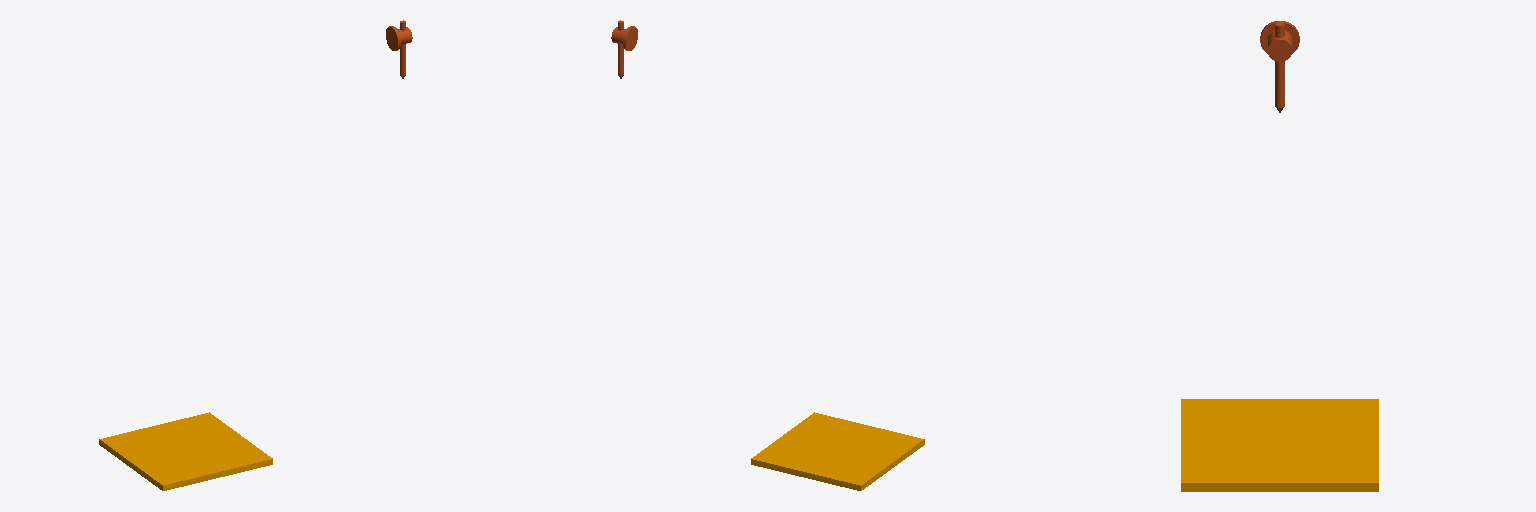
URDF robot description (irb120_pen):
<?xml version="1.0" ?>
<!-- =================================================================================== -->
<!-- |    This document was autogenerated by xacro from irb120_pen.xacro               | -->
<!-- |    EDITING THIS FILE BY HAND IS NOT RECOMMENDED                                 | -->
<!-- =================================================================================== -->
<robot name="irb120_pen" xmlns:xacro="http://ros.org/wiki/xacro">
  <!-- Dummy base link -->
  <link name="base_link">
    <visual>
      <geometry>
        <box size="0.2 0.2 0.01"/>
      </geometry>
    </visual>
    <collision>
      <geometry>
        <box size="0.2 0.2 0.01"/>
      </geometry>
    </collision>
  </link>
  <!-- Include IRB120 model -->
  <!-- Conversion were obtained from http://www.e-paint.co.uk/Lab_values.asp
       unless otherwise stated. -->
  <!-- Actual colors -->
  <!-- NCS 2070-Y60R orange, standard robot color 1974 - May 2014 -->
  <!-- RAL 7035 light grey (abb graphite white), standard robot color May 2014 - current -->
  <!-- RAL 9003 signal white (abb white), cleanroom robot color -->
  <!-- RAL 7032 pebble gray, controller -->
  <!-- RAL 7012 basalt gray (abb dark gray) , robot primer -->
  <!-- RAL 7021 black gray (abb black) , robot with dark link color -->
  <!-- Other robot colours availble, but not limited too. -->
  <!-- RAL 3001 signal red -->
  <!-- RAL 3002 carmine red -->
  <!-- RAL 5002 ultramarine blue -->
  <!-- RAL 5015 sky blue -->
  <!-- RAL 6002 leaf green -->
  <!-- RAL 9002 gray white -->
  <!-- RAL 9010 pure white -->
  <!-- approximations -->
  <!-- yellow, collision model -->
  <!-- link list -->
  <link name="arm_base_link">
    <inertial>
      <mass value="6.215"/>
      <origin rpy="0 0 0" xyz="-0.04204 8.01E-05 0.07964"/>
      <inertia ixx="0.0247272" ixy="-8.0784E-05" ixz="0.00130902" iyy="0.0491285" iyz="-8.0419E-06" izz="0.0472376"/>
    </inertial>
    <visual>
      <origin rpy="0 0 0" xyz="0 0 0"/>
      <geometry>
        <mesh filename="package://abb_irb120_support/meshes/irb120/visual/base_link.stl"/>
      </geometry>
      <material name="">
        <color rgba="0.7372549 0.3490196 0.1607843 1"/>
      </material>
    </visual>
    <collision>
      <origin rpy="0 0 0" xyz="0 0 0"/>
      <geometry>
        <mesh filename="package://abb_irb120_support/meshes/irb120/collision/base_link.stl"/>
      </geometry>
      <material name="">
        <color rgba="1 1 0 1"/>
      </material>
    </collision>
  </link>
  <link name="arm_link_1">
    <inertial>
      <mass value="3.067"/>
      <origin rpy="0 0 0" xyz="9.77E-05 -0.00012 0.23841"/>
      <inertia ixx="0.0142175" ixy="-1.28579E-05" ixz="-2.31364E-05" iyy="0.0144041" iyz="1.93404E-05" izz="0.0104533"/>
    </inertial>
    <visual>
      <origin rpy="0 0 0" xyz="0 0 0"/>
      <geometry>
        <mesh filename="package://abb_irb120_support/meshes/irb120/visual/link_1.stl"/>
      </geometry>
      <material name="">
        <color rgba="0.7372549 0.3490196 0.1607843 1"/>
      </material>
    </visual>
    <collision>
      <origin rpy="0 0 0" xyz="0 0 0"/>
      <geometry>
        <mesh filename="package://abb_irb120_support/meshes/irb120/collision/link_1.stl"/>
      </geometry>
      <material name="">
        <color rgba="1 1 0 1"/>
      </material>
    </collision>
  </link>
  <link name="arm_link_2">
    <inertial>
      <mass value="3.909"/>
      <origin rpy="0 0 0" xyz="0.00078 -0.00212 0.10124"/>
      <inertia ixx="0.0603111" ixy="9.83431E-06" ixz="5.72407E-05" iyy="0.041569" iyz="-0.00050497" izz="0.0259548"/>
    </inertial>
    <visual>
      <origin rpy="0 0 0" xyz="0 0 0"/>
      <geometry>
        <mesh filename="package://abb_irb120_support/meshes/irb120/visual/link_2.stl"/>
      </geometry>
      <material name="">
        <color rgba="0.7372549 0.3490196 0.1607843 1"/>
      </material>
    </visual>
    <collision>
      <origin rpy="0 0 0" xyz="0 0 0"/>
      <geometry>
        <mesh filename="package://abb_irb120_support/meshes/irb120/collision/link_2.stl"/>
      </geometry>
      <material name="">
        <color rgba="1 1 0 1"/>
      </material>
    </collision>
  </link>
  <link name="arm_link_3">
    <inertial>
      <mass value="2.944"/>
      <origin rpy="0 0 0" xyz="0.02281 0.00106 0.05791"/>
      <inertia ixx="0.00835606" ixy="-8.01545E-05" ixz="0.00142884" iyy="0.016713" iyz="-0.000182227" izz="0.0126984"/>
    </inertial>
    <visual>
      <origin rpy="0 0 0" xyz="0 0 0"/>
      <geometry>
        <mesh filename="package://abb_irb120_support/meshes/irb120/visual/link_3.stl"/>
      </geometry>
      <material name="">
        <color rgba="0.7372549 0.3490196 0.1607843 1"/>
      </material>
    </visual>
    <collision>
      <origin rpy="0 0 0" xyz="0 0 0"/>
      <geometry>
        <mesh filename="package://abb_irb120_support/meshes/irb120/collision/link_3.stl"/>
      </geometry>
      <material name="">
        <color rgba="1 1 0 1"/>
      </material>
    </collision>
  </link>
  <link name="arm_link_4">
    <inertial>
      <mass value="1.328"/>
      <origin rpy="0 0 0" xyz="0.2247 0.00015 0.00041"/>
      <inertia ixx="0.00284661" ixy="-2.12765E-05" ixz="-1.6435E-05" iyy="0.00401346" iyz="1.31336E-05" izz="0.0052535"/>
    </inertial>
    <visual>
      <origin rpy="0 0 0" xyz="0 0 0"/>
      <geometry>
        <mesh filename="package://abb_irb120_support/meshes/irb120/visual/link_4.stl"/>
      </geometry>
      <material name="">
        <color rgba="0.7372549 0.3490196 0.1607843 1"/>
      </material>
    </visual>
    <collision>
      <origin rpy="0 0 0" xyz="0 0 0"/>
      <geometry>
        <mesh filename="package://abb_irb120_support/meshes/irb120/collision/link_4.stl"/>
      </geometry>
      <material name="">
        <color rgba="1 1 0 1"/>
      </material>
    </collision>
  </link>
  <link name="arm_link_5">
    <inertial>
      <mass value="0.546"/>
      <origin rpy="0 0 0" xyz="-0.00109 3.68E-05 6.22E-05"/>
      <inertia ixx="0.000404891" ixy="1.61943E-06" ixz="8.46805E-07" iyy="0.000892825" iyz="-1.51792E-08" izz="0.000815468"/>
    </inertial>
    <visual>
      <origin rpy="0 0 0" xyz="0 0 0"/>
      <geometry>
        <mesh filename="package://abb_irb120_support/meshes/irb120/visual/link_5.stl"/>
      </geometry>
      <material name="">
        <color rgba="0.7372549 0.3490196 0.1607843 1"/>
      </material>
    </visual>
    <collision>
      <origin rpy="0 0 0" xyz="0 0 0"/>
      <geometry>
        <mesh filename="package://abb_irb120_support/meshes/irb120/collision/link_5.stl"/>
      </geometry>
      <material name="">
        <color rgba="1 1 0 1"/>
      </material>
    </collision>
  </link>
  <link name="arm_link_6">
    <inertial>
      <mass value="0.137"/>
      <origin rpy="0 0 0" xyz="-0.00706 -0.00017 -1.32E-06"/>
      <inertia ixx="0.001" ixy="0" ixz="0" iyy="0.001" iyz="0" izz="0.001"/>
    </inertial>
    <visual>
      <origin rpy="0 0 0" xyz="0 0 0"/>
      <geometry>
        <mesh filename="package://abb_irb120_support/meshes/irb120/visual/link_6.stl"/>
      </geometry>
      <material name="">
        <color rgba="0.1882353 0.1960784 0.2039216 1"/>
      </material>
    </visual>
    <collision>
      <origin rpy="0 0 0" xyz="0 0 0"/>
      <geometry>
        <mesh filename="package://abb_irb120_support/meshes/irb120/collision/link_6.stl"/>
      </geometry>
      <material name="">
        <color rgba="1 1 0 1"/>
      </material>
    </collision>
  </link>
  <link name="arm_tool0"/>
  <!-- end of link list -->
  <!-- joint list -->
  <joint name="arm_joint_1" type="revolute">
    <origin rpy="0 0 0" xyz="0 0 0"/>
    <parent link="arm_base_link"/>
    <child link="arm_link_1"/>
    <limit effort="0" lower="-2.87979" upper="2.87979" velocity="4.36332"/>
    <axis xyz="0 0 1"/>
    <dynamics damping="0.0" friction="0.0"/>
  </joint>
  <joint name="arm_joint_2" type="revolute">
    <origin rpy="0 0 0" xyz="0 0 0.29"/>
    <parent link="arm_link_1"/>
    <child link="arm_link_2"/>
    <limit effort="0" lower="-1.91986" upper="1.91986" velocity="4.36332"/>
    <axis xyz="0 1 0"/>
    <dynamics damping="0.0" friction="0.0"/>
  </joint>
  <joint name="arm_joint_3" type="revolute">
    <origin rpy="0 0 0" xyz="0 0 0.27"/>
    <parent link="arm_link_2"/>
    <child link="arm_link_3"/>
    <limit effort="0" lower="-1.91986" upper="1.22173" velocity="4.36332"/>
    <axis xyz="0 1 0"/>
    <dynamics damping="0.0" friction="0.0"/>
  </joint>
  <joint name="arm_joint_4" type="revolute">
    <origin rpy="0 0 0" xyz="0 0 0.07"/>
    <parent link="arm_link_3"/>
    <child link="arm_link_4"/>
    <limit effort="0" lower="-2.79253" upper="2.79253" velocity="5.58505"/>
    <axis xyz="1 0 0"/>
    <dynamics damping="0.0" friction="0.0"/>
  </joint>
  <joint name="arm_joint_5" type="revolute">
    <origin rpy="0 0 0" xyz="0.302 0 0"/>
    <parent link="arm_link_4"/>
    <child link="arm_link_5"/>
    <limit effort="0" lower="-2.094395" upper="2.094395" velocity="5.58505"/>
    <axis xyz="0 1 0"/>
    <dynamics damping="0.0" friction="0.0"/>
  </joint>
  <joint name="arm_joint_6" type="revolute">
    <origin rpy="0 0 0" xyz="0.072 0 0"/>
    <parent link="arm_link_5"/>
    <child link="arm_link_6"/>
    <limit effort="0" lower="-6.98132" upper="6.98132" velocity="7.33038"/>
    <axis xyz="1 0 0"/>
    <dynamics damping="0.0" friction="0.0"/>
  </joint>
  <joint name="arm_joint6-tool0" type="fixed">
    <parent link="arm_link_6"/>
    <child link="arm_tool0"/>
    <origin rpy="0 0 0" xyz="0 0 0"/>
  </joint>
  <!-- end of joint list -->
  <!-- ROS base_link to ABB World Coordinates transform -->
  <link name="arm_base"/>
  <joint name="arm_base_link-base" type="fixed">
    <origin rpy="0 0 0" xyz="0 0 -0.115"/>
    <parent link="arm_base_link"/>
    <child link="arm_base"/>
  </joint>
  <joint name="base_link_to_arm_base_link" type="fixed">
    <parent link="base_link"/>
    <child link="arm_base_link"/>
  </joint>
  <!-- Add pencil tool to arm. -->
  <link name="pencil">
    <inertial>
      <mass value="0.0"/>
      <origin rpy="0 0 0" xyz="0.01415 0.0 -0.00682"/>
      <inertia ixx="0.0" ixy="0" ixz="0" iyy="0.0" iyz="0" izz="0.0"/>
    </inertial>
    <visual>
      <origin rpy="0 0 0" xyz="0.0 0.0 0.0"/>
      <geometry>
        <mesh filename="package://irb120_pen_support/meshes/visual/irb120_pen.stl"/>
      </geometry>
      <material name="">
        <color rgba="0.7372549 0.3490196 0.1607843 1"/>
      </material>
    </visual>
    <collision>
      <origin rpy="0 0 0" xyz="0.0 0.0 0.0"/>
      <geometry>
        <mesh filename="package://irb120_pen_support/meshes/collision/irb120_pen.stl"/>
      </geometry>
      <material name="">
        <color rgba="1 1 0 1"/>
      </material>
    </collision>
  </link>
  <link name="pencil_tip"/>
  <joint name="tool0-pencil" type="fixed">
    <parent link="arm_tool0"/>
    <child link="pencil"/>
    <origin rpy="0 0 0" xyz="0 0 0"/>
  </joint>
  <joint name="pencil-pencil_tip" type="fixed">
    <parent link="pencil"/>
    <child link="pencil_tip"/>
    <origin rpy="0 0 0" xyz="0.020 0 -0.075"/>
  </joint>
</robot>

--- Facts derived from the render (not from the file) ---
3 views of the same robot in one strip: view 1: azimuth 30°, elevation 25°; view 2: azimuth 150°, elevation 25°; view 3: azimuth 270°, elevation 25° (orthographic).
Model irb120_pen with 12 links and 11 joints (6 revolute, 5 fixed), rooted at base_link, posed all joints at 0.
Links seen in each view (by area): view 1: base_link, pencil; view 2: base_link, pencil; view 3: base_link, pencil.
Link boxes in pixels (x1,y1,x2,y2): base_link: [99, 412, 272, 490]; pencil: [386, 20, 412, 78]; base_link: [751, 412, 924, 490]; pencil: [611, 20, 637, 78]; base_link: [1181, 399, 1378, 491]; pencil: [1260, 21, 1299, 112].
Bounding box of the posed robot: 0.504 × 0.2 × 0.66 m (x, y, z).
Meshes: 8 distinct files referenced, 1 mesh visuals loaded (1 binary STL); not drawn: 7 (reference not matched to a file when rendering).